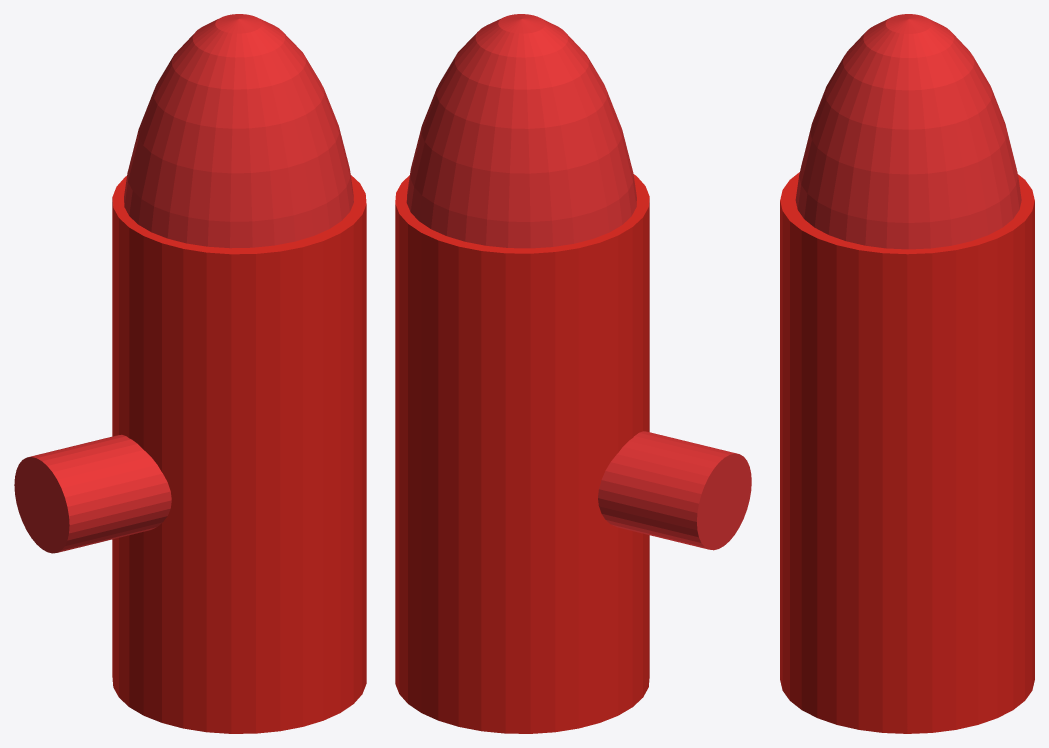
Rendered from firehydrant.glb.
3 views of the same model, side by side, from view 1: azimuth 30°, elevation 25°; view 2: azimuth 150°, elevation 25°; view 3: azimuth 270°, elevation 25° (orthographic).
Parts seen in each view (by area): view 1: Cylinder.002; view 2: Cylinder.002; view 3: Cylinder.002.
Boxes of the visible parts, bbox=[...] form: Cylinder.002: bbox=[14, 14, 366, 733]; Cylinder.002: bbox=[395, 14, 751, 733]; Cylinder.002: bbox=[780, 14, 1034, 733].
Bounding box in the file's own units: 0.1633 × 0.3327 × 0.1162.
